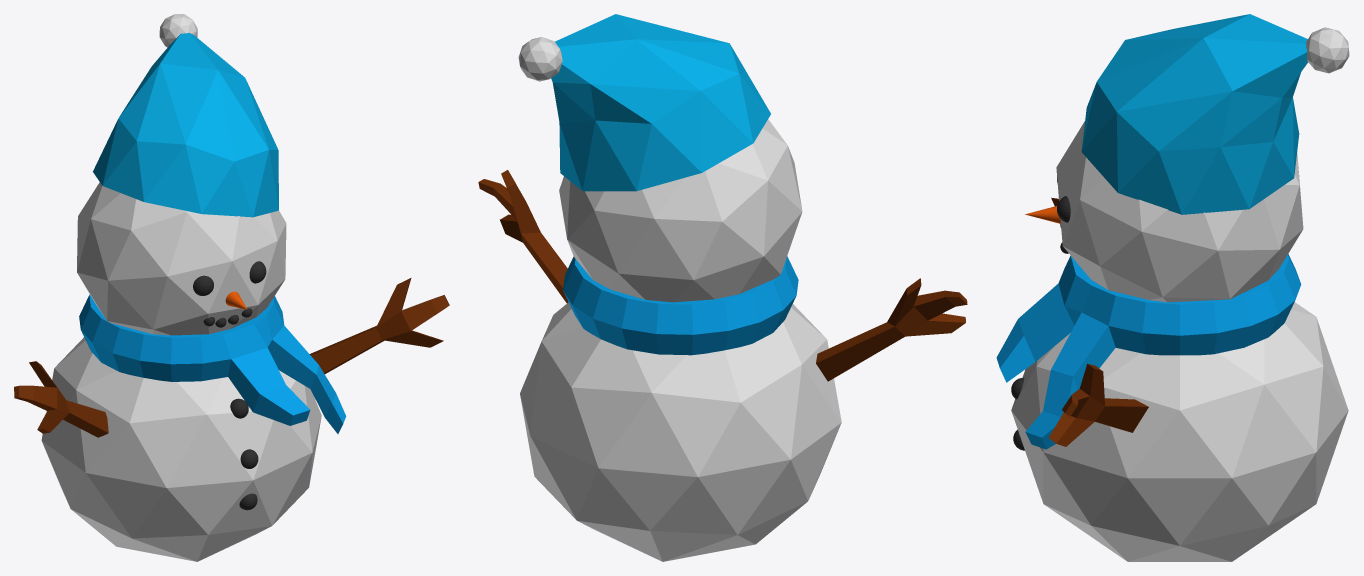
The picture shows the model from 3 angles, left to right: view 1: azimuth 30°, elevation 25°; view 2: azimuth 150°, elevation 25°; view 3: azimuth 270°, elevation 25°; orthographic projection. The views are drawn at different scales.
Visible parts, largest first — view 1: object 1, object 6, object 2, Torus.002_3, object 7, object 4, object 8; view 2: object 1, object 6, object 2, Torus.002_3, object 7, object 8; view 3: object 1, object 6, object 2, Torus.002_3, object 7, object 8, object 4.
Boxes of the visible parts, box(x1,y1,x2,y2) form: object 1: box(41, 337, 321, 561); object 6: box(93, 33, 278, 217); object 2: box(77, 182, 286, 335); Torus.002_3: box(79, 294, 346, 433); object 7: box(14, 278, 449, 437); object 4: box(193, 261, 266, 510); object 8: box(159, 14, 197, 47); object 1: box(520, 302, 841, 561); object 6: box(551, 14, 770, 191); object 2: box(559, 119, 802, 302); Torus.002_3: box(563, 256, 798, 355); object 7: box(478, 170, 967, 381); object 8: box(518, 37, 562, 81); object 1: box(1011, 302, 1348, 561); object 6: box(1081, 14, 1308, 214); object 2: box(1056, 121, 1303, 302); Torus.002_3: box(996, 254, 1301, 449); object 7: box(1048, 197, 1148, 446); object 8: box(1306, 27, 1349, 73); object 4: box(1011, 177, 1070, 450).
Bounding box in the file's own units: 3.47 × 3.64 × 2.09.
